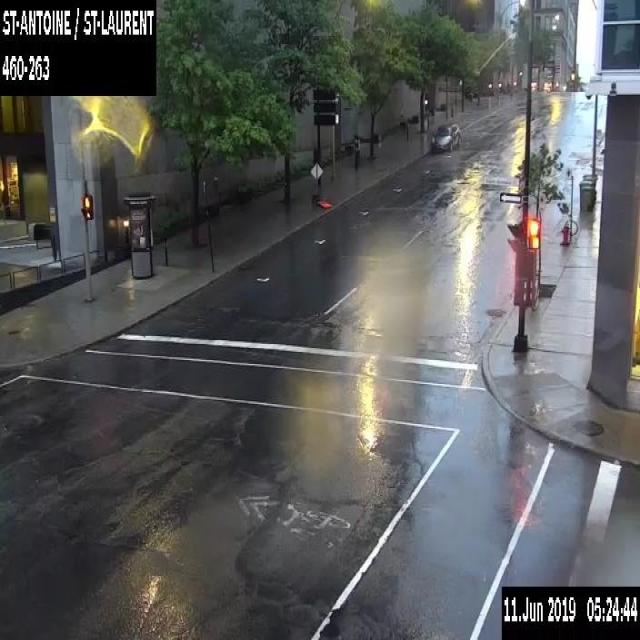construction: (310, 161, 322, 199), (311, 192, 333, 210)
vehicle: (430, 122, 460, 151)
